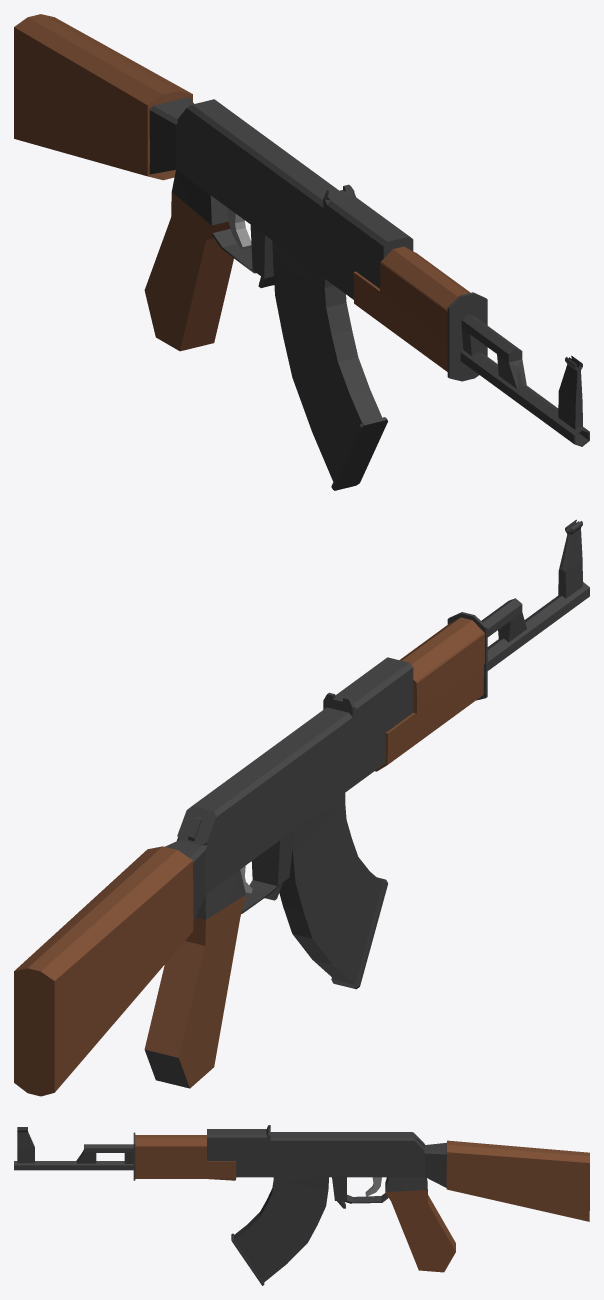
3 renders of one model, top to bottom at view 1: azimuth 30°, elevation 25°; view 2: azimuth 150°, elevation 25°; view 3: azimuth 270°, elevation 25°, orthographic. The views are drawn at different scales.
Parts seen in each view (by area): view 1: Cube.002, Magazine.001; view 2: Cube.002, Magazine.001; view 3: Cube.002, Magazine.001.
Boxes of the visible parts, x1,y1,x2,y2 form: Cube.002: (14,14,589,446); Magazine.001: (272,240,387,490); Cube.002: (14,519,589,1096); Magazine.001: (279,793,388,989); Cube.002: (14,1125,589,1272); Magazine.001: (231,1177,328,1285).
Size of the model in its own units: 4.51 by 27.78 by 93.31.
